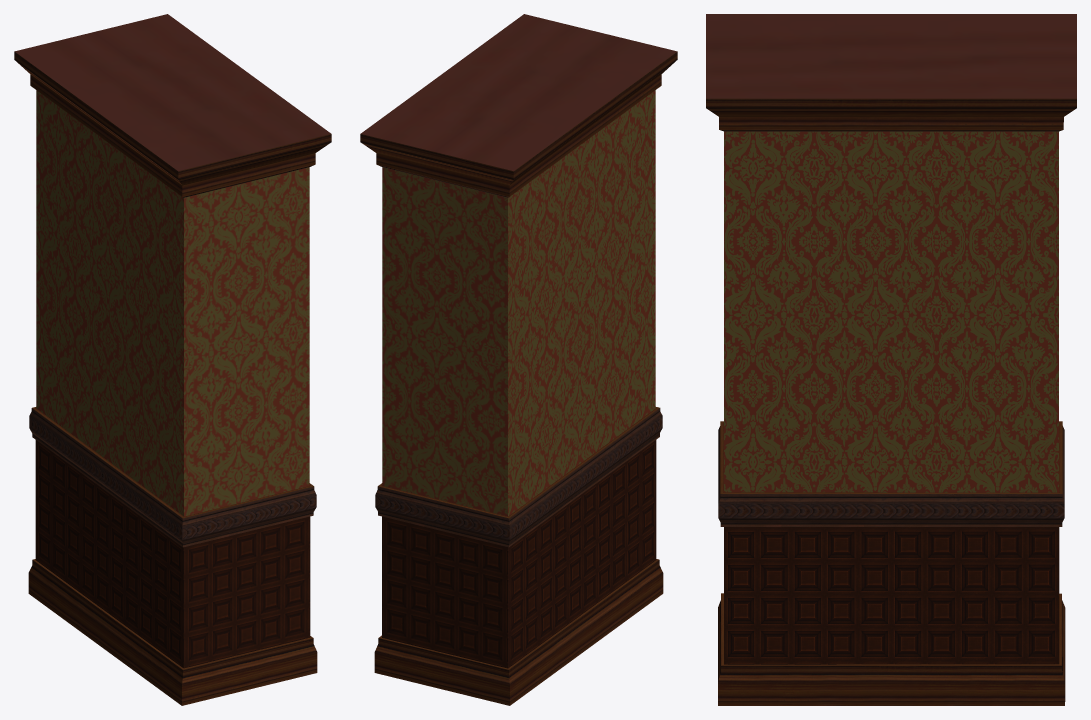
The model's file is Wall1Box.fbx.
3 views of the same model, side by side, from view 1: azimuth 30°, elevation 25°; view 2: azimuth 150°, elevation 25°; view 3: azimuth 270°, elevation 25° (orthographic). The views are drawn at different scales.
Parts seen in each view (by area): view 1: Wall 1 CUBE; view 2: Wall 1 CUBE; view 3: Wall 1 CUBE.
Boxes of the visible parts, x1,y1,x2,y2 form: Wall 1 CUBE: (14,14,331,705); Wall 1 CUBE: (360,14,677,705); Wall 1 CUBE: (706,14,1076,705).
Bounding box in the file's own units: 111 × 373 × 205.
